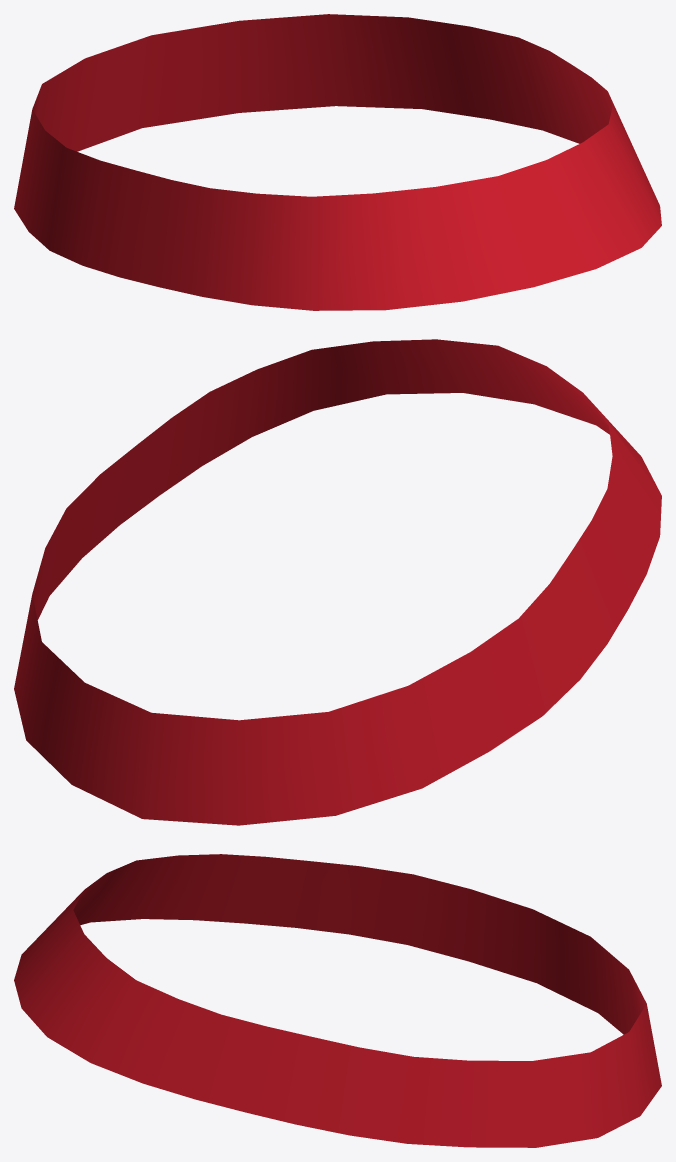
File: headband.glb
3 views of the same model, one above another, from view 1: azimuth 30°, elevation 25°; view 2: azimuth 150°, elevation 25°; view 3: azimuth 270°, elevation 25° (orthographic). The views are drawn at different scales.
Parts seen in each view (by area): view 1: headband; view 2: headband; view 3: headband.
Boxes of the visible parts, x1=… form: headband: x1=14, y1=14, x2=661, y2=310; headband: x1=14, y1=339, x2=661, y2=825; headband: x1=14, y1=854, x2=661, y2=1147.
Bounding box in the file's own units: 0.1645 × 0.0671 × 0.2242.
